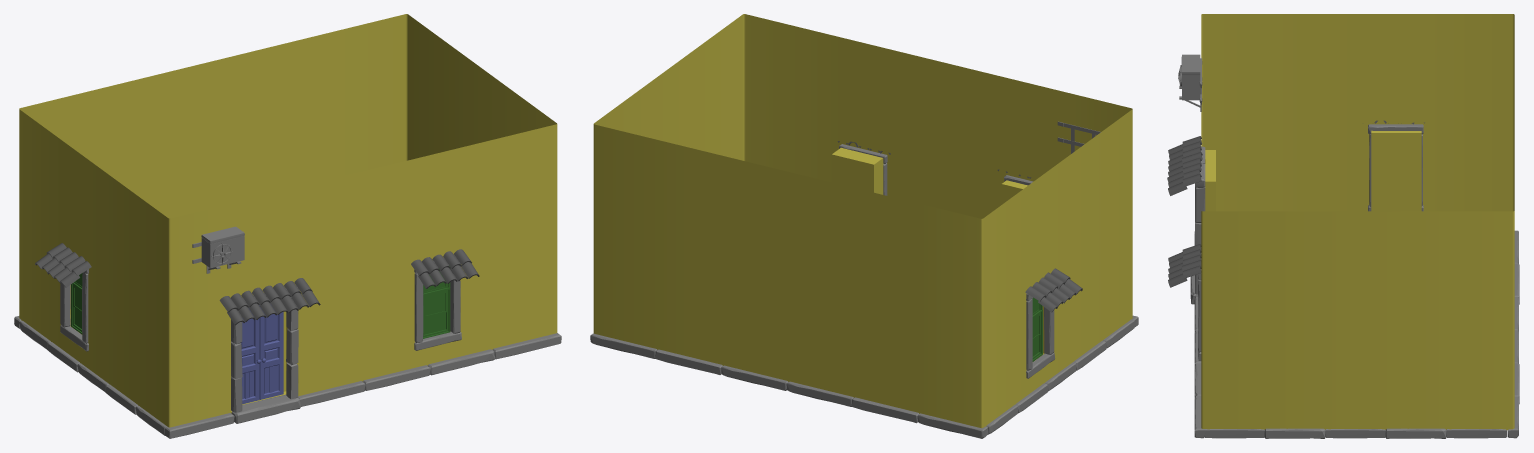
Rendered from SM_building_modular_floor_2x1_02.fbx.
3 renders of one model, left to right at view 1: azimuth 30°, elevation 25°; view 2: azimuth 150°, elevation 25°; view 3: azimuth 270°, elevation 25°, orthographic. The views are drawn at different scales.
Visible parts, largest first — view 1: Object32364; view 2: Object32364; view 3: Object32364.
Part boxes in pixels (x1,y1,x2,y2): Object32364: (14,14,561,438); Object32364: (590,14,1138,438); Object32364: (1167,14,1519,438).
Size of the model in its own units: 449 by 223 by 315.
